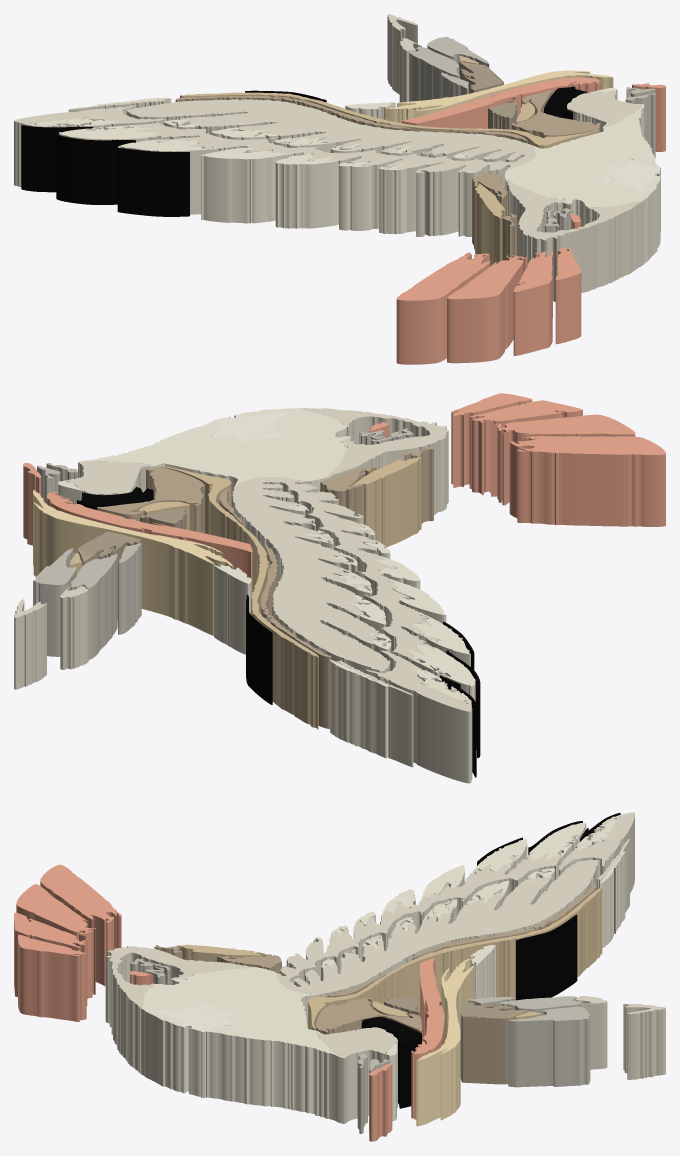
The picture shows the model from 3 angles, top to bottom: view 1: azimuth 30°, elevation 25°; view 2: azimuth 150°, elevation 25°; view 3: azimuth 270°, elevation 25°; orthographic projection. The views are drawn at different scales.
Parts seen in each view (by area): view 1: imagetostl_mesh1, imagetostl_mesh17, imagetostl_mesh0, imagetostl_mesh2, imagetostl_mesh22, imagetostl_mesh96, imagetostl_mesh52, imagetostl_mesh26, imagetostl_mesh98, imagetostl_mesh50, imagetostl_mesh56, imagetostl_mesh92 (+37 smaller); view 2: imagetostl_mesh1, imagetostl_mesh50, imagetostl_mesh17, imagetostl_mesh114, imagetostl_mesh100, imagetostl_mesh6, imagetostl_mesh0, imagetostl_mesh38, imagetostl_mesh102, imagetostl_mesh2, imagetostl_mesh3, imagetostl_mesh32 (+37 smaller); view 3: imagetostl_mesh1, imagetostl_mesh16, imagetostl_mesh17, imagetostl_mesh100, imagetostl_mesh78, imagetostl_mesh58, imagetostl_mesh94, imagetostl_mesh114, imagetostl_mesh0, imagetostl_mesh2, imagetostl_mesh72, imagetostl_mesh8 (+37 smaller).
Part boxes in pixels (x1,y1,x2,y2): imagetostl_mesh1: (126, 99, 535, 172); imagetostl_mesh17: (505, 104, 658, 207); imagetostl_mesh0: (126, 111, 524, 236); imagetostl_mesh2: (506, 181, 642, 301); imagetostl_mesh22: (201, 149, 293, 223); imagetostl_mesh96: (117, 148, 189, 216); imagetostl_mesh52: (447, 255, 527, 363); imagetostl_mesh26: (275, 153, 338, 228); imagetostl_mesh98: (56, 135, 135, 204); imagetostl_mesh50: (396, 253, 490, 364); imagetostl_mesh56: (513, 252, 552, 355); imagetostl_mesh92: (21, 125, 93, 192); imagetostl_mesh1: (232, 477, 439, 671); imagetostl_mesh50: (509, 437, 665, 526); imagetostl_mesh17: (78, 408, 348, 486); imagetostl_mesh114: (33, 494, 233, 635); imagetostl_mesh100: (161, 467, 318, 729); imagetostl_mesh6: (365, 651, 472, 783); imagetostl_mesh0: (232, 481, 439, 673); imagetostl_mesh38: (330, 660, 388, 758); imagetostl_mesh102: (352, 457, 421, 547); imagetostl_mesh2: (331, 416, 448, 514); imagetostl_mesh3: (302, 408, 448, 475); imagetostl_mesh32: (214, 565, 251, 654); imagetostl_mesh1: (277, 851, 599, 994); imagetostl_mesh16: (141, 975, 345, 1123); imagetostl_mesh17: (141, 967, 345, 1057); imagetostl_mesh100: (308, 888, 602, 1030); imagetostl_mesh78: (508, 1011, 590, 1087); imagetostl_mesh58: (18, 941, 86, 1021); imagetostl_mesh94: (516, 915, 577, 1000); imagetostl_mesh114: (416, 959, 473, 1126); imagetostl_mesh0: (280, 857, 599, 997); imagetostl_mesh2: (105, 946, 219, 1073); imagetostl_mesh72: (464, 1010, 529, 1084); imagetostl_mesh8: (623, 1004, 665, 1079).
Bounding box in the file's own units: 85.77 × 10 × 89.62.
